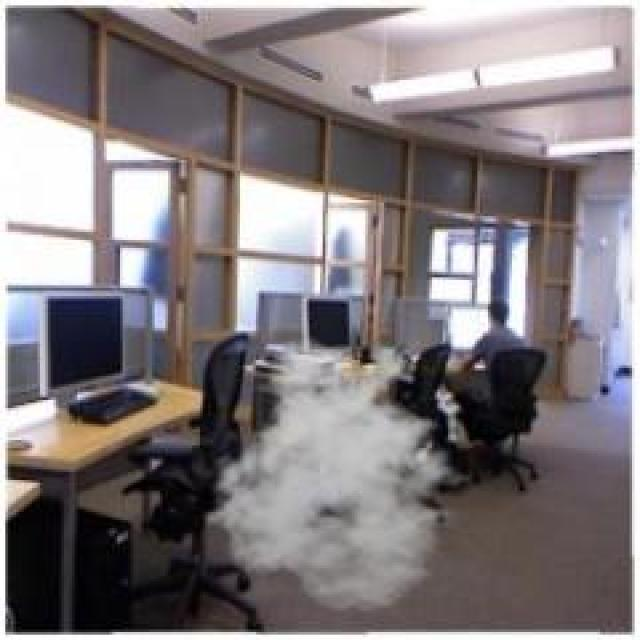smoke: (202, 337, 486, 615)
